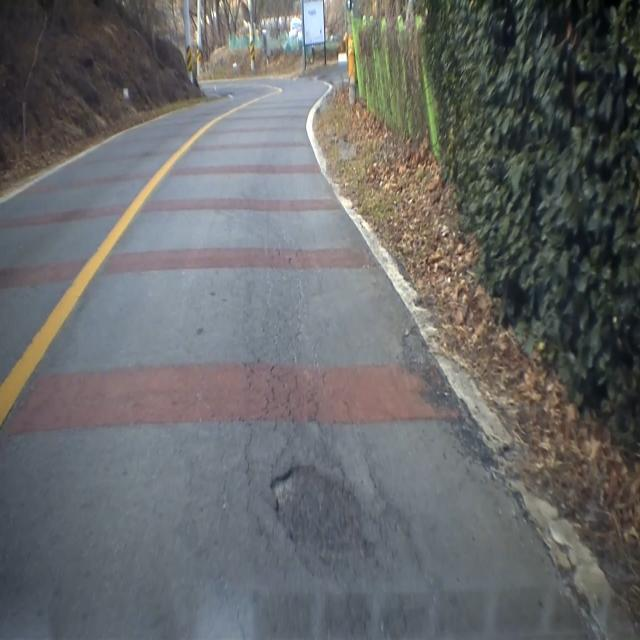pothole: (266, 451, 380, 584)
